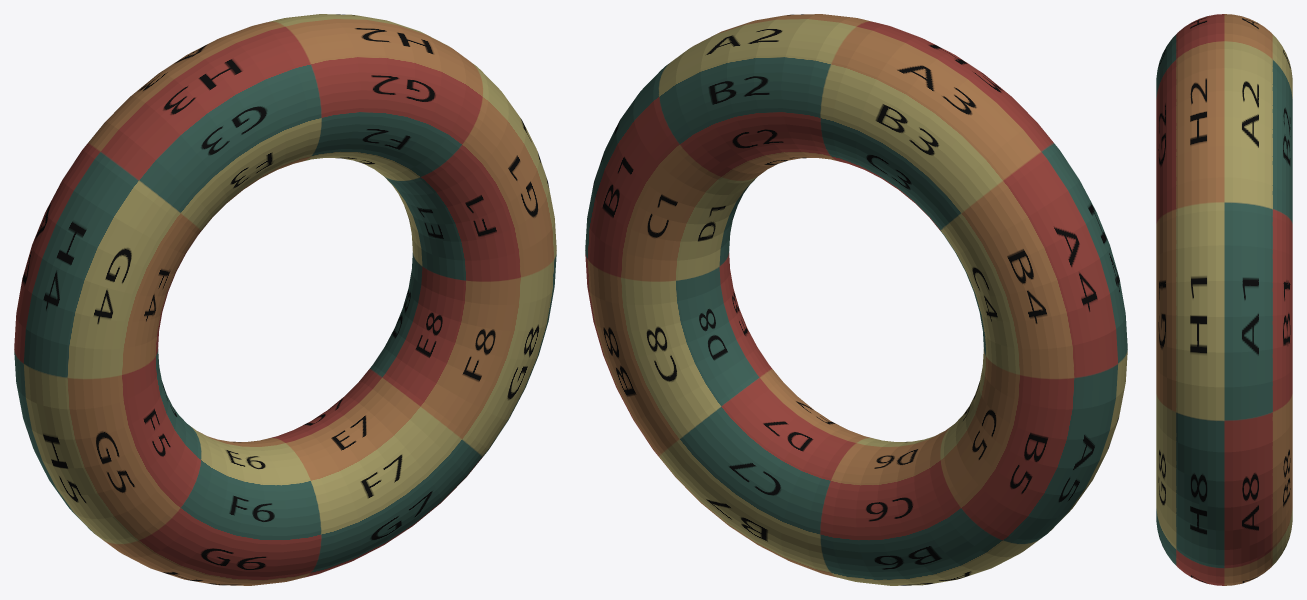
File: texture_torus_R24_r23.glb
3 renders of one model, left to right at view 1: azimuth 30°, elevation 25°; view 2: azimuth 150°, elevation 25°; view 3: azimuth 270°, elevation 25°, orthographic. The views are drawn at different scales.
Parts seen in each view (by area): view 1: world; view 2: world; view 3: world.
Boxes of the visible parts, x1,y1,x2,y2 form: world: (14,14,556,585); world: (585,14,1127,585); world: (1156,14,1292,585).
Bounding box in the file's own units: 34.13 × 34.07 × 8.12.
1 material, 1 textured.
